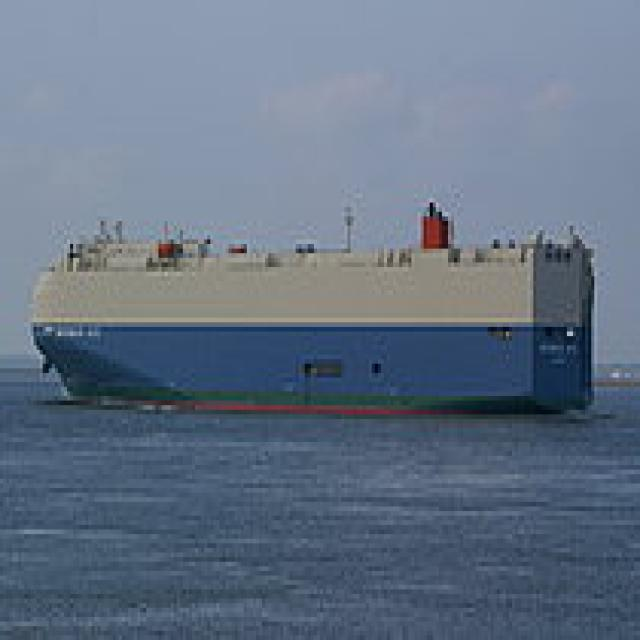Carrier: (24, 203, 594, 419)
